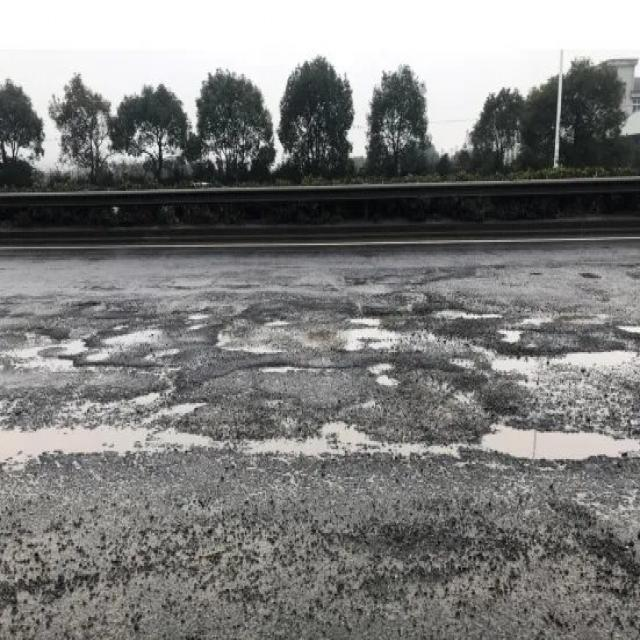Pothole: (4, 398, 636, 471), (482, 316, 639, 383), (30, 316, 158, 372), (326, 308, 419, 362)
